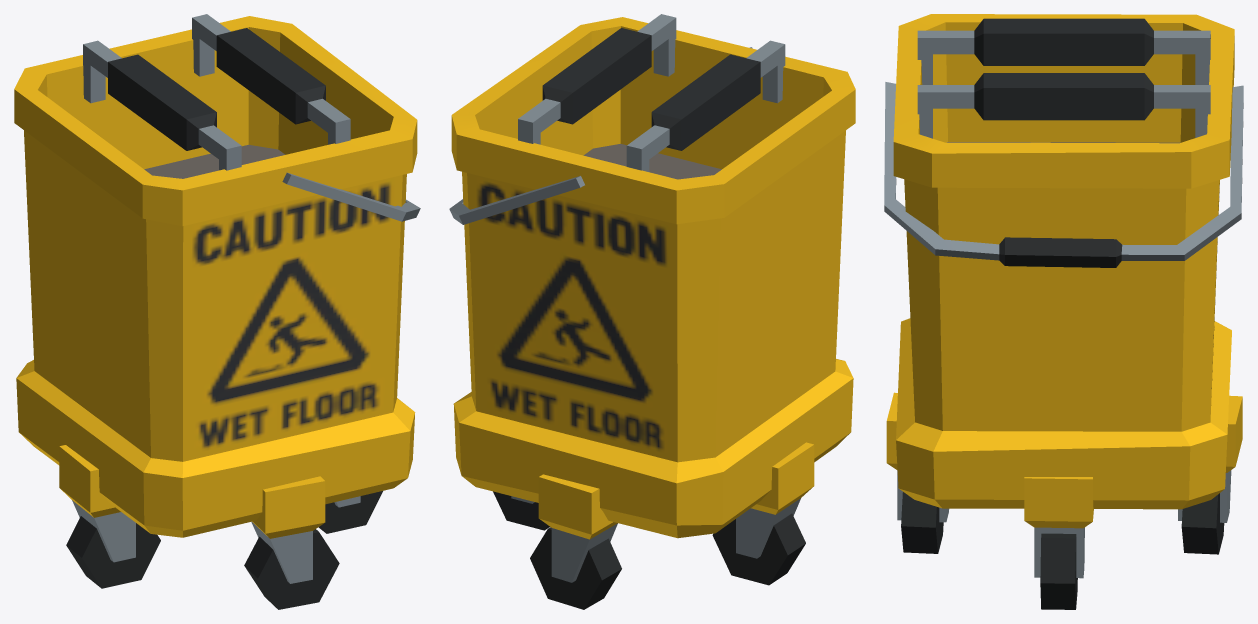
File: SM_Prop_Mop_Bucket_01.obj
3 renders of one model, left to right at view 1: azimuth 30°, elevation 25°; view 2: azimuth 150°, elevation 25°; view 3: azimuth 270°, elevation 25°, orthographic. The views are drawn at different scales.
Parts seen in each view (by area): view 1: SM_Prop_Mop_Bucket_01_0; view 2: SM_Prop_Mop_Bucket_01_0; view 3: SM_Prop_Mop_Bucket_01_0.
Boxes of the visible parts, x1,y1,x2,y2 form: SM_Prop_Mop_Bucket_01_0: (14, 14, 420, 609); SM_Prop_Mop_Bucket_01_0: (449, 14, 855, 609); SM_Prop_Mop_Bucket_01_0: (884, 14, 1243, 609).
Bounding box in the file's own units: 0.4859 × 0.73 × 0.4883.
1 material, 1 textured.
